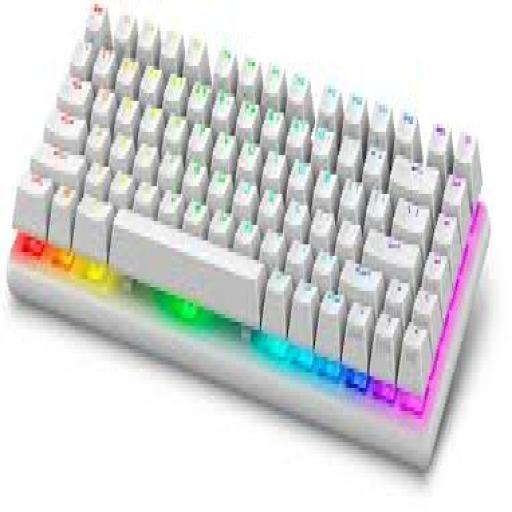KEYBOARD-2: (8, 0, 495, 484)
